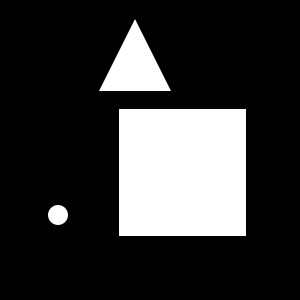circle: (119, 109, 246, 236)
rectangle: (163, 179, 219, 235), (48, 205, 68, 225)
triangle: (99, 19, 171, 91)
